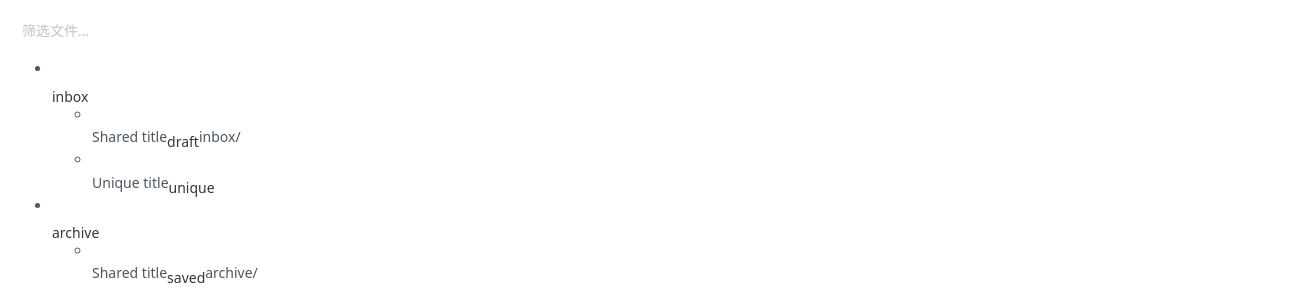
Test: Diary FileTree presentation boundary › shows directory hints for duplicate titles while keeping unique rows compact
Check: the text with class "row-path-hint" reads "inbox/", box x1=199 y1=127 x2=241 y2=146
Check: the text with class "row-path-hint" reads "archive/", box x1=205 y1=263 x2=258 y2=282
Type "inbox/draft" into the field with class "search-input".
click(652, 30); type("inbox/draft")  # box x1=22 y1=16 x2=1282 y2=44
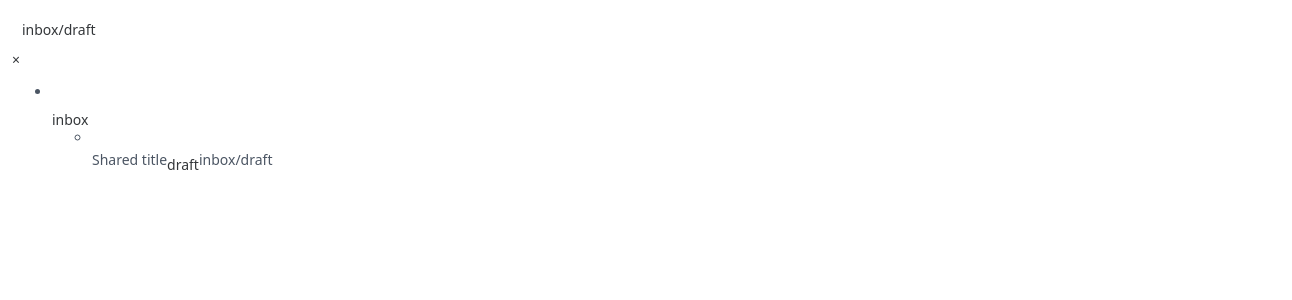
Check: the text with class "row-path-hint" reads "inbox/draft", box x1=199 y1=150 x2=272 y2=169
Clear the field with class "search-input" at (652, 30), box x1=22 y1=16 x2=1282 y2=44
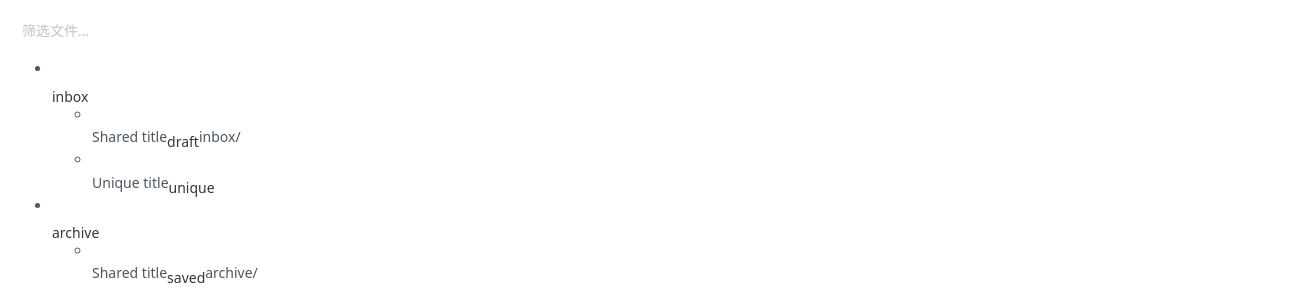
Check: the text with class "row-path-hint" reads "inbox/", box x1=199 y1=127 x2=241 y2=146
